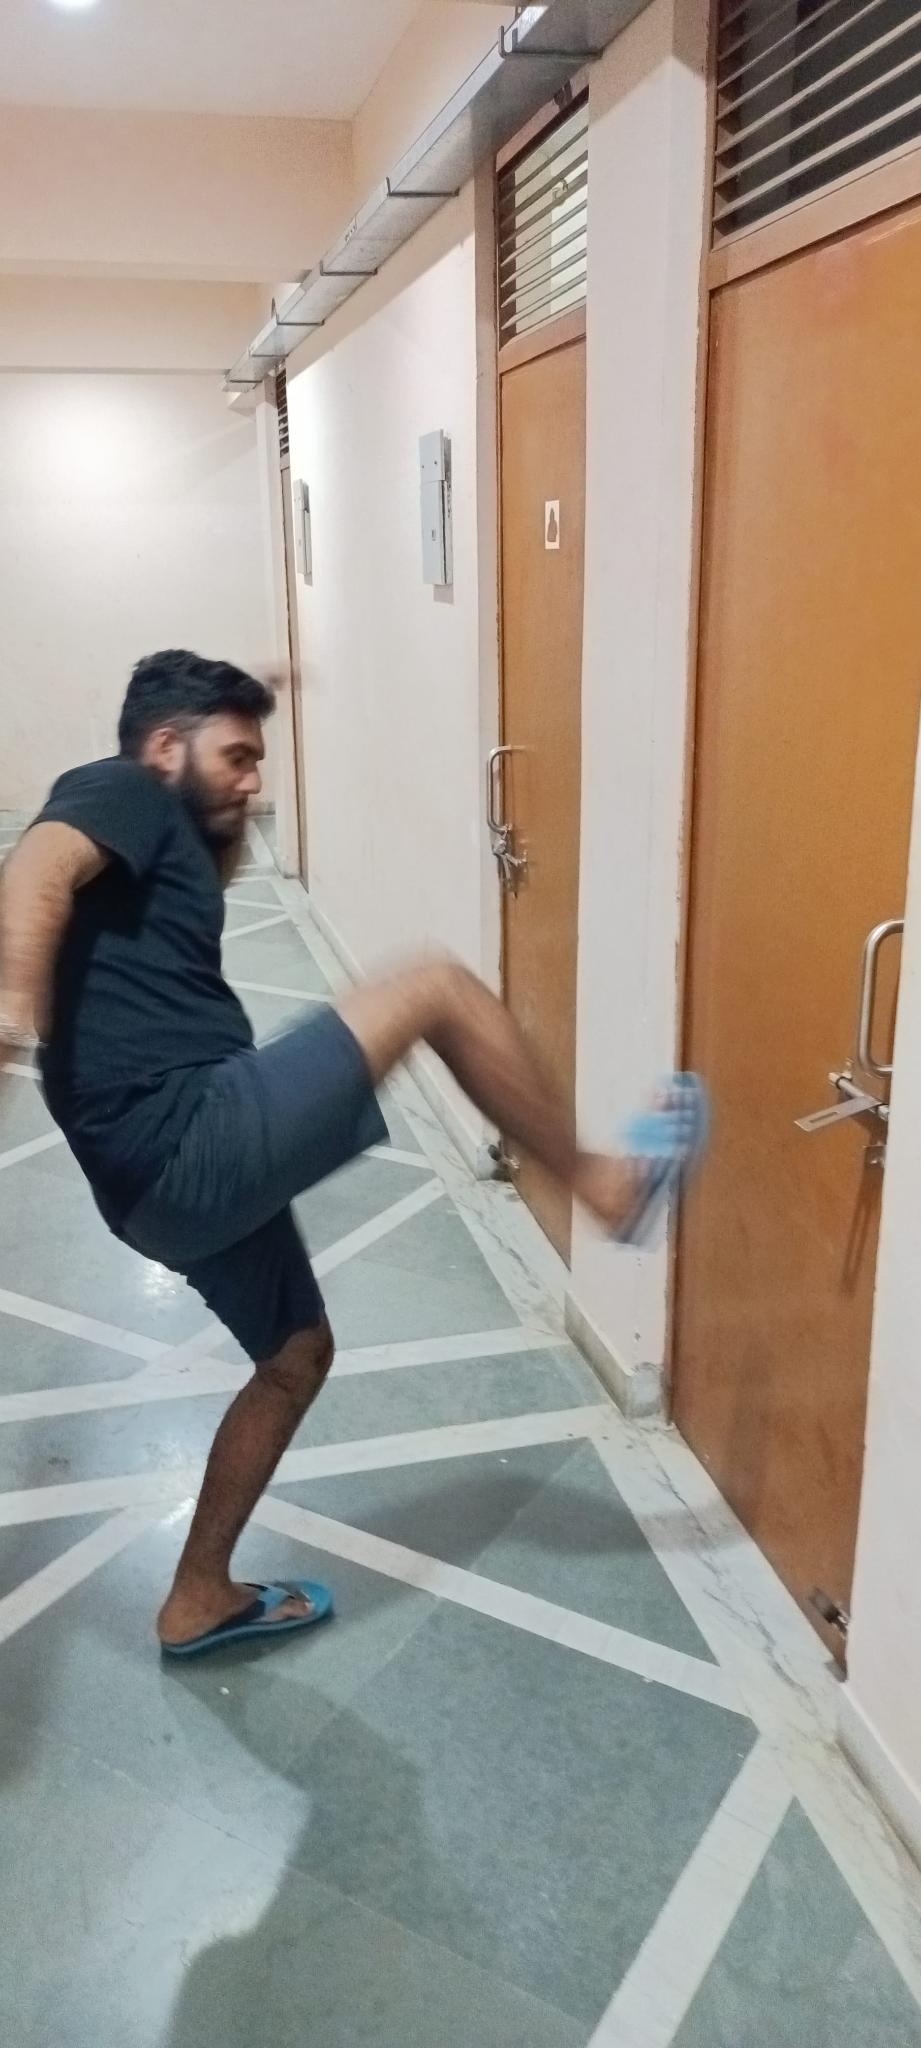suspicion: (4, 517, 768, 1714)
